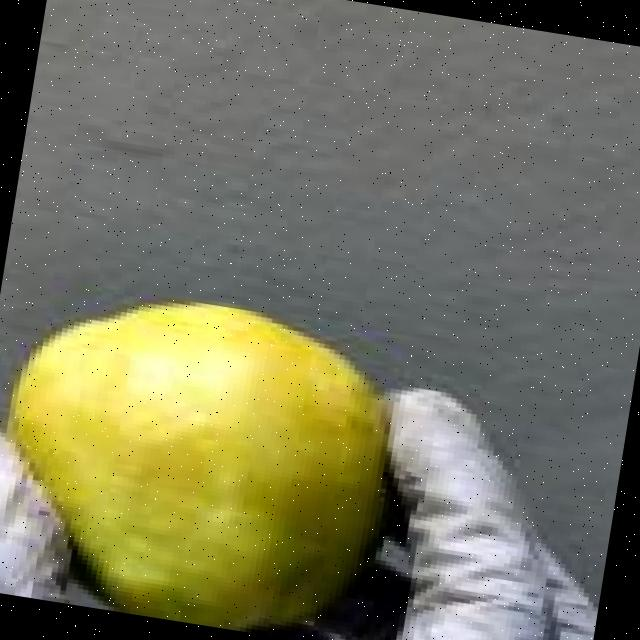Good_Guava 5-7 days: (0, 301, 396, 637)
